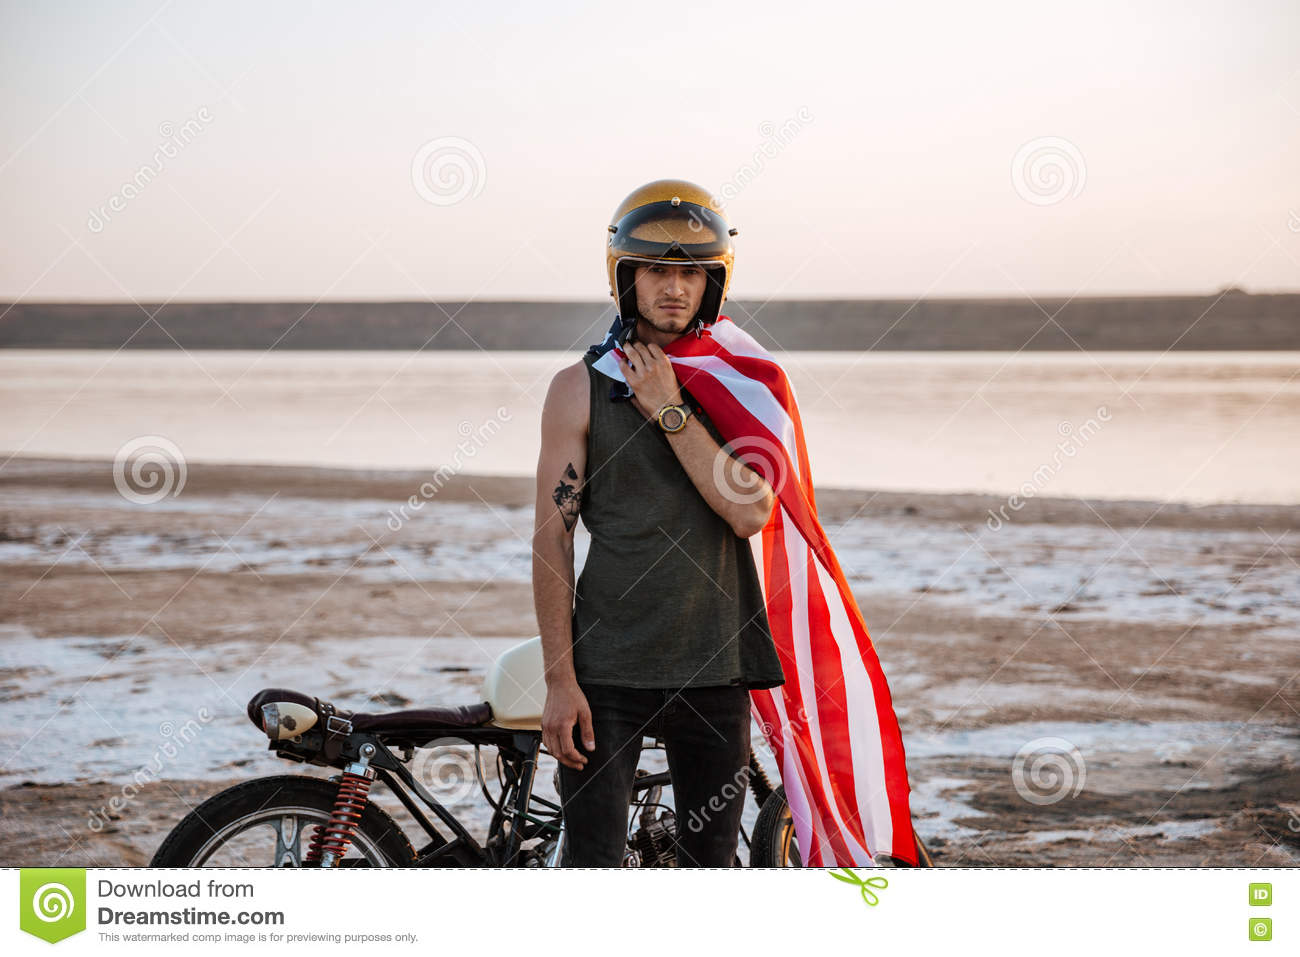helmet: (598, 186, 737, 298)
